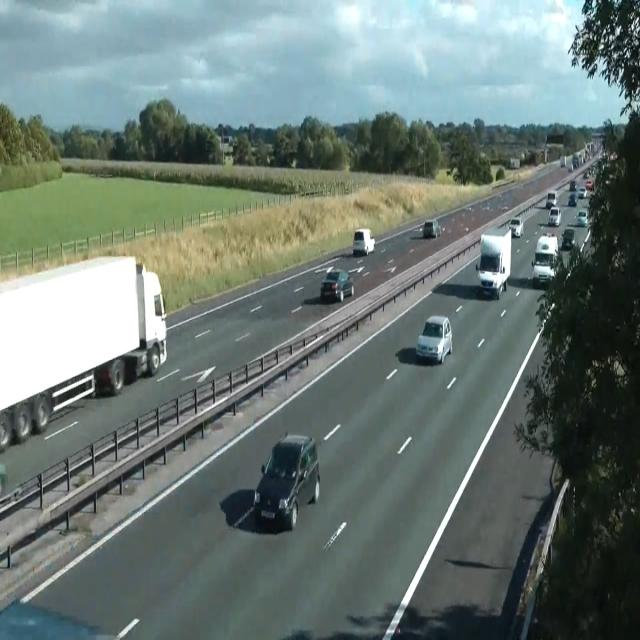bus: (320, 268, 354, 302), (580, 230, 596, 264), (423, 219, 441, 238), (508, 217, 524, 237), (576, 209, 588, 226), (576, 186, 586, 198), (481, 204, 493, 212), (569, 180, 577, 191), (585, 180, 593, 190), (536, 162, 544, 170), (567, 165, 573, 172)
jeep: (252, 431, 320, 531), (416, 314, 452, 364), (531, 233, 559, 286), (352, 228, 375, 255), (561, 227, 575, 249), (547, 205, 561, 226), (545, 189, 557, 208)
minibus: (0, 254, 167, 451), (476, 227, 512, 300), (510, 157, 520, 169), (560, 155, 566, 167)
